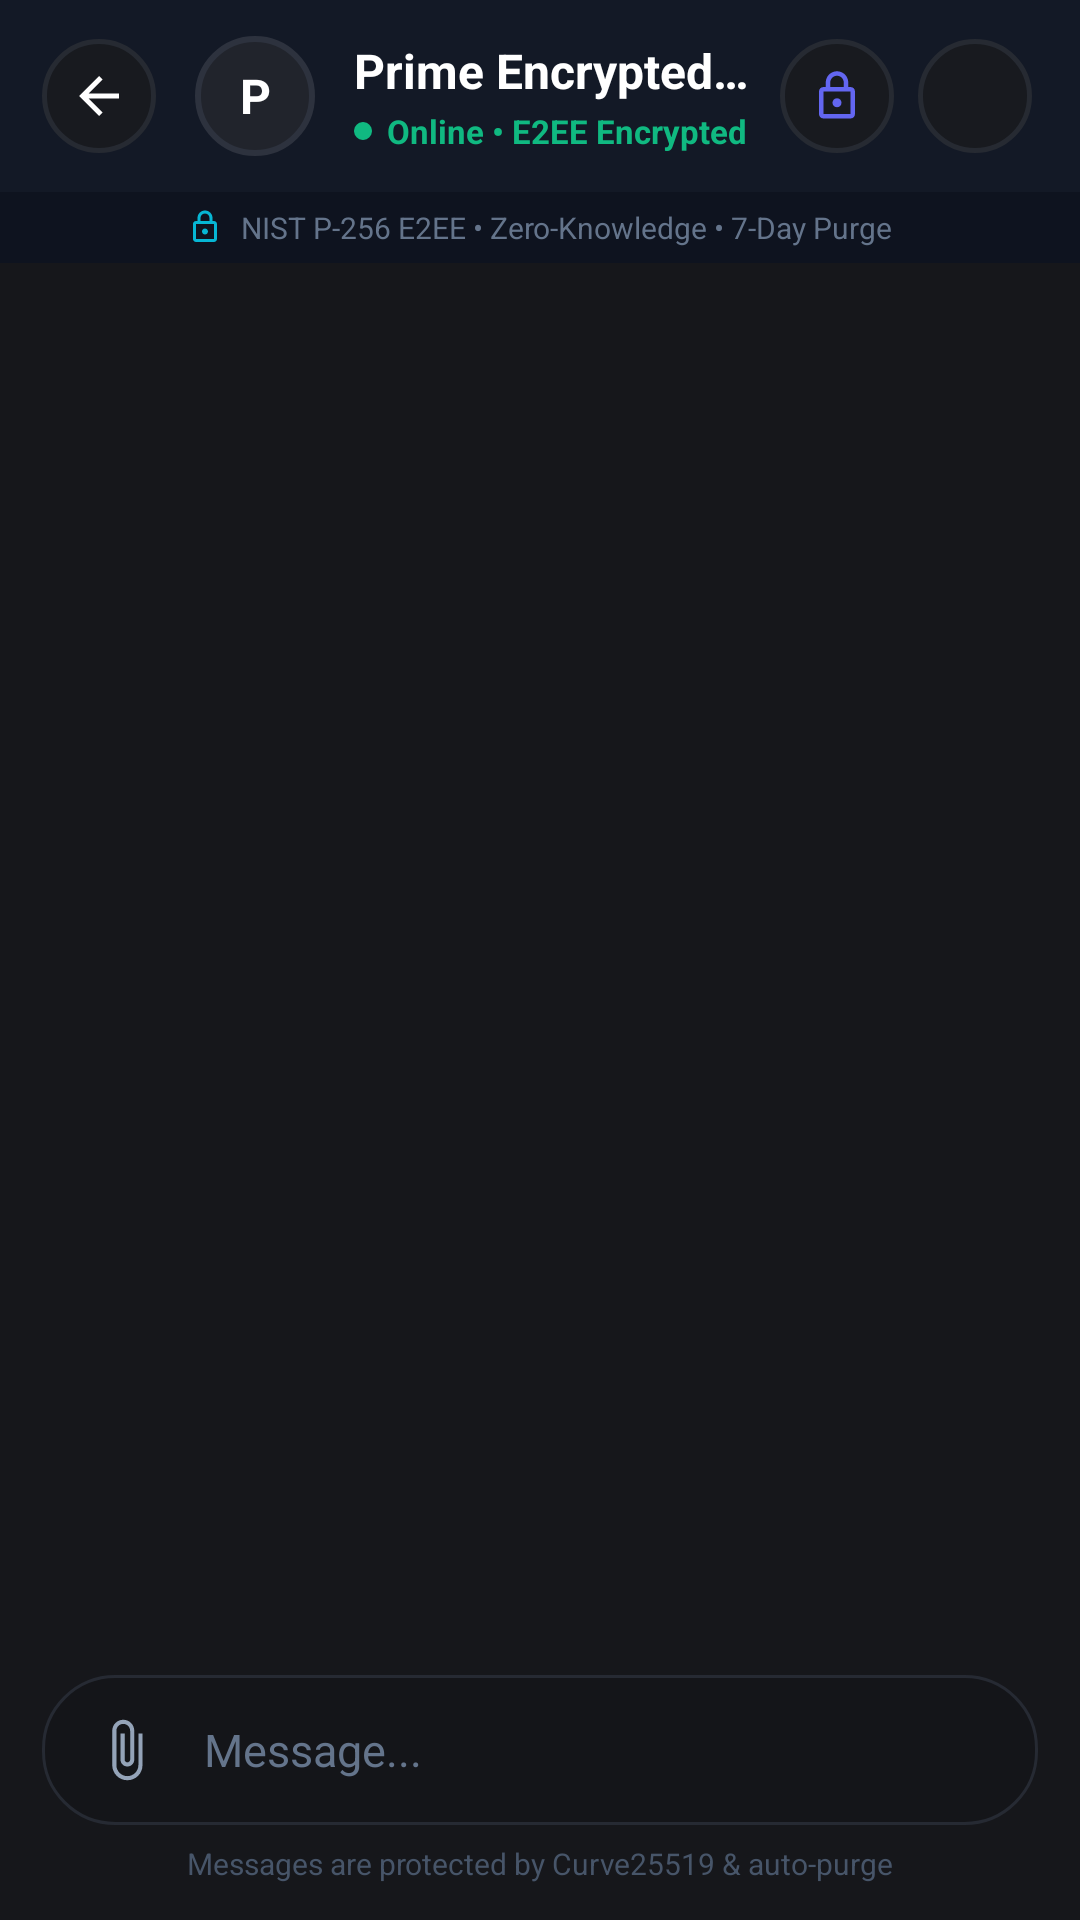

Icons on this 1080px×1920px Android screen, each with the point to tap as (x,y):
Attach Image or Video: (127,1750)
Back: (99,96)
Security Info: (837,95)
